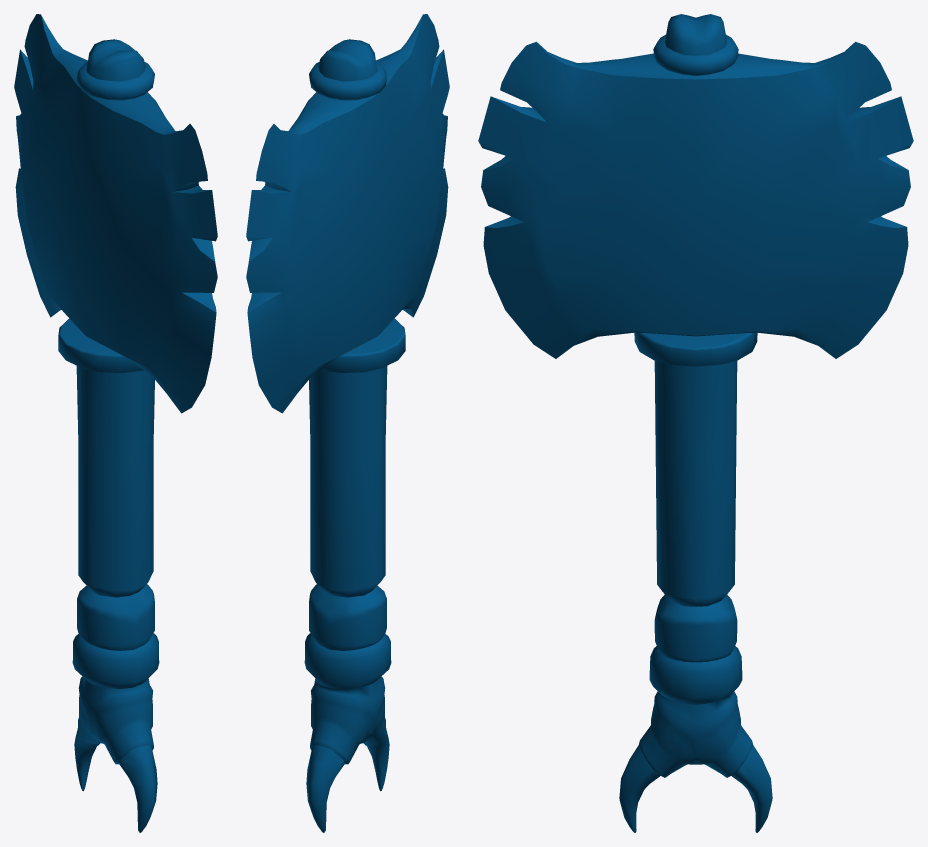
File: Orc_Axe.fbx
3 views of the same model, side by side, from view 1: azimuth 30°, elevation 25°; view 2: azimuth 150°, elevation 25°; view 3: azimuth 270°, elevation 25° (orthographic). The views are drawn at different scales.
Parts seen in each view (by area): view 1: Warrior_mob_weapon_low; view 2: Warrior_mob_weapon_low; view 3: Warrior_mob_weapon_low.
Part boxes in pixels (x1=…): Warrior_mob_weapon_low: x1=14, y1=14, x2=217, y2=832; Warrior_mob_weapon_low: x1=246, y1=14, x2=449, y2=832; Warrior_mob_weapon_low: x1=478, y1=14, x2=913, y2=832.
Bounding box in the file's own units: 12.99 × 94.22 × 45.55.
